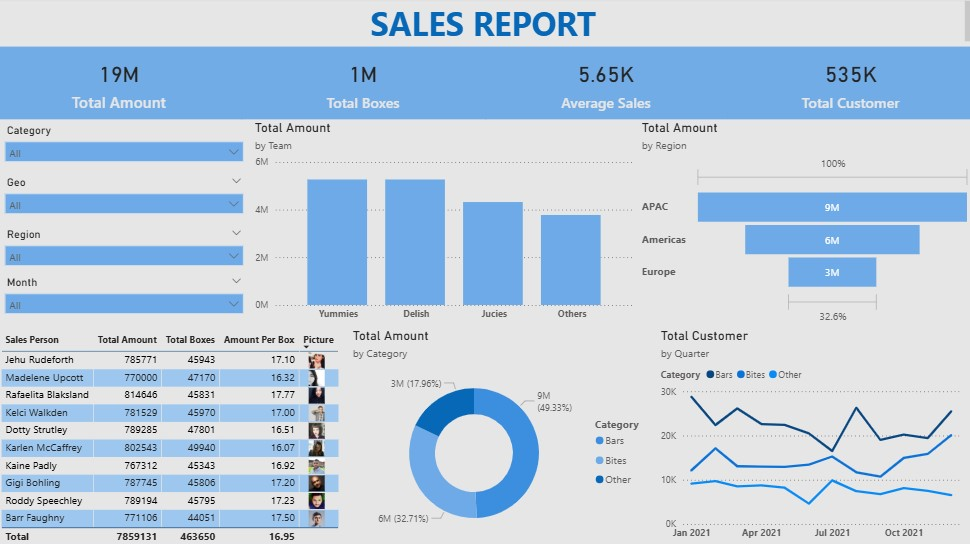

What the dashboard file says about the page in this screenshot:
{"tool":"powerbi","page":{"name":"Page 1","canvas":[1280,720],"ordinal":0},"visuals":[{"type":"tableEx","fields":{"Values":["sales.Sales Person","sales.Total_Amount","sales.Total_Boxes","sales.Amount_per_box","people.Picture"]},"box":[0,433.4,472.3,286.6],"z":0},{"type":"card","fields":{"Values":["sales.Total_Amount"]},"box":[0,64.8,319.7,96.5],"z":1000},{"type":"card","fields":{"Values":["sales.Total_Boxes"]},"box":[319.7,64.8,319.7,96.5],"z":2000},{"type":"card","title":"Total Customer","fields":{"Values":["sales.Total_Cust"]},"box":[956.2,64.8,324,96.5],"z":3000},{"type":"card","fields":{"Values":["sales.Average_Sales"]},"box":[639.4,64.8,316.8,96.5],"z":4000},{"type":"lineChart","title":"Total Customer","fields":{"Y":["sales.Total_Cust"],"Category":["sales.Date.Variation.Date Hierarchy.Year","sales.Date.Variation.Date Hierarchy.Month"],"Series":["products.Category"]},"box":[864,433.4,416.2,286.6],"z":5000},{"type":"slicer","fields":{"Values":["products.Category"]},"box":[0,161.3,332.6,67.7],"z":6000},{"type":"slicer","fields":{"Values":["locations.Geo"]},"box":[0,229,332.6,67.7],"z":7000},{"type":"slicer","fields":{"Values":["locations.Region"]},"box":[0,296.6,332.6,70.6],"z":8000},{"type":"textbox","box":[0,0,1280.2,64.8],"z":9000},{"type":"donutChart","title":"Total Amount","fields":{"Category":["products.Category"],"Y":["sales.Total_Amount"]},"box":[460.8,433.4,403.2,286.6],"z":10000},{"type":"slicer","fields":{"Values":["sales.Date.Variation.Date Hierarchy.Month"]},"box":[0,360,332.6,73.4],"z":11000},{"type":"columnChart","title":"Total Amount","fields":{"Y":["Sum(sales.Amount)"],"Category":["people.Team"]},"box":[332.6,161.3,506.9,272.2],"z":12000},{"type":"funnel","title":"Total Amount","fields":{"Category":["locations.Region"],"Y":["sales.Total_Amount"]},"box":[839.5,161.3,440.6,272.2],"z":13000}]}

Visuals, with their boxes in screenshot pixels (x1, y1, x2, y2), scaled from the page's 1280x720 canvas onto the 970x544 screenshot:
tableEx - sales.Sales Person x sales.Total_Amount: rect(0, 327, 358, 543)
card - sales.Total_Amount: rect(0, 49, 242, 122)
card - sales.Total_Boxes: rect(242, 49, 485, 122)
"Total Customer" card: rect(725, 49, 969, 122)
card - sales.Average_Sales: rect(485, 49, 725, 122)
"Total Customer" lineChart: rect(655, 327, 969, 543)
slicer - products.Category: rect(0, 122, 252, 173)
slicer - locations.Geo: rect(0, 173, 252, 224)
slicer - locations.Region: rect(0, 224, 252, 277)
textbox: rect(0, 0, 969, 49)
"Total Amount" donutChart: rect(349, 327, 655, 543)
slicer - sales.Date.Variation.Date Hierarchy.Month: rect(0, 272, 252, 327)
"Total Amount" columnChart: rect(252, 122, 636, 328)
"Total Amount" funnel: rect(636, 122, 969, 328)
